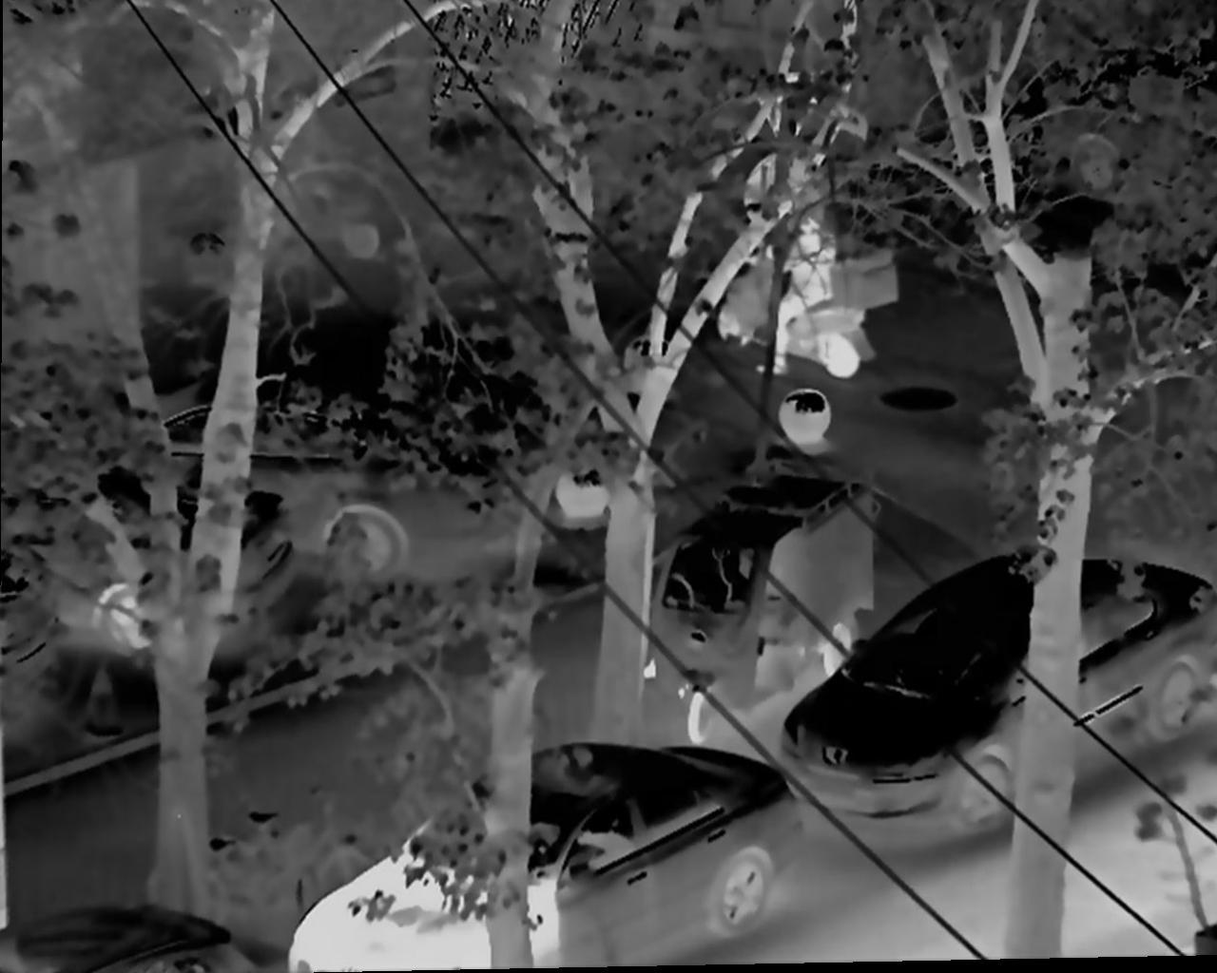person: (763, 176, 843, 374)
